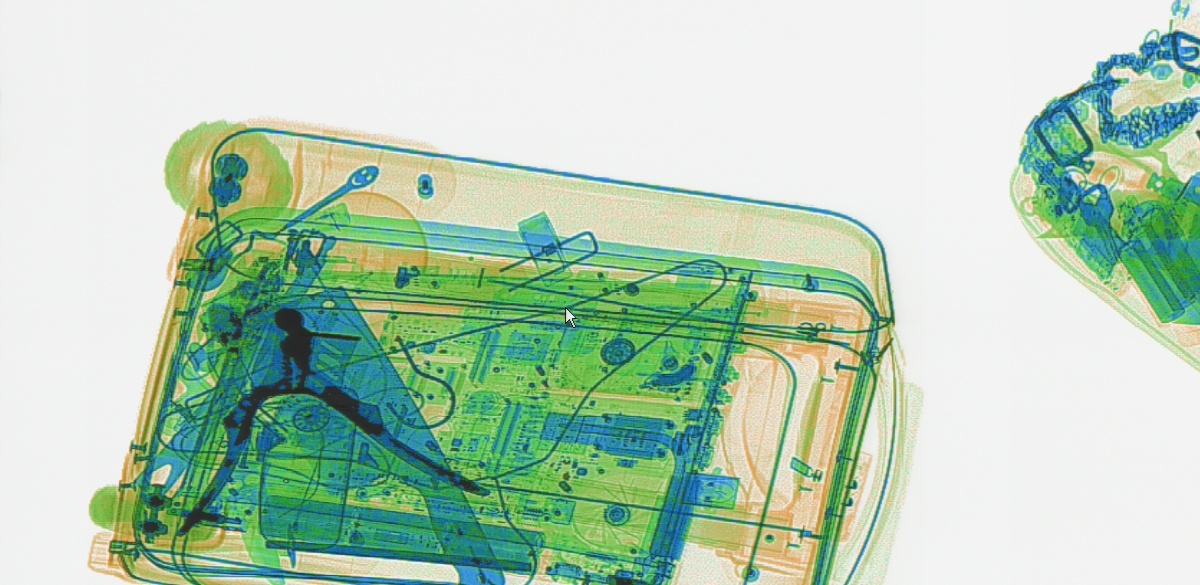knife: (224, 283, 505, 582), (1014, 120, 1197, 241)
powerbank: (1111, 185, 1197, 323)
